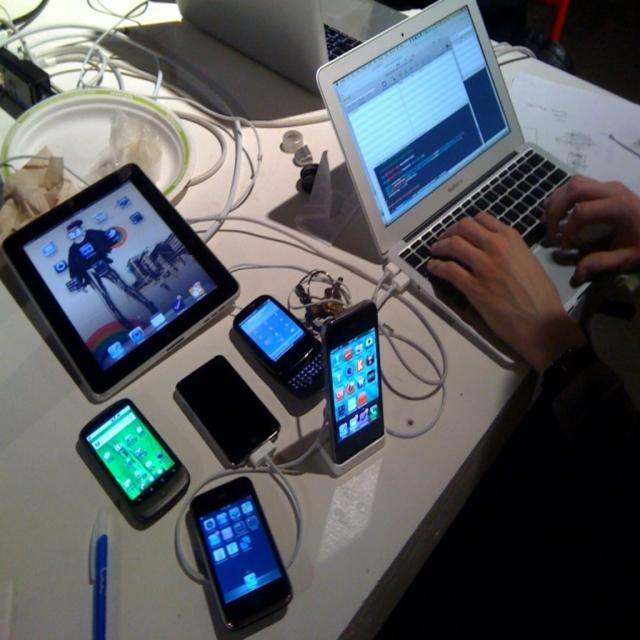Mobile-phone: (190, 481, 294, 639), (76, 400, 190, 530), (230, 294, 328, 406), (319, 301, 385, 462)
